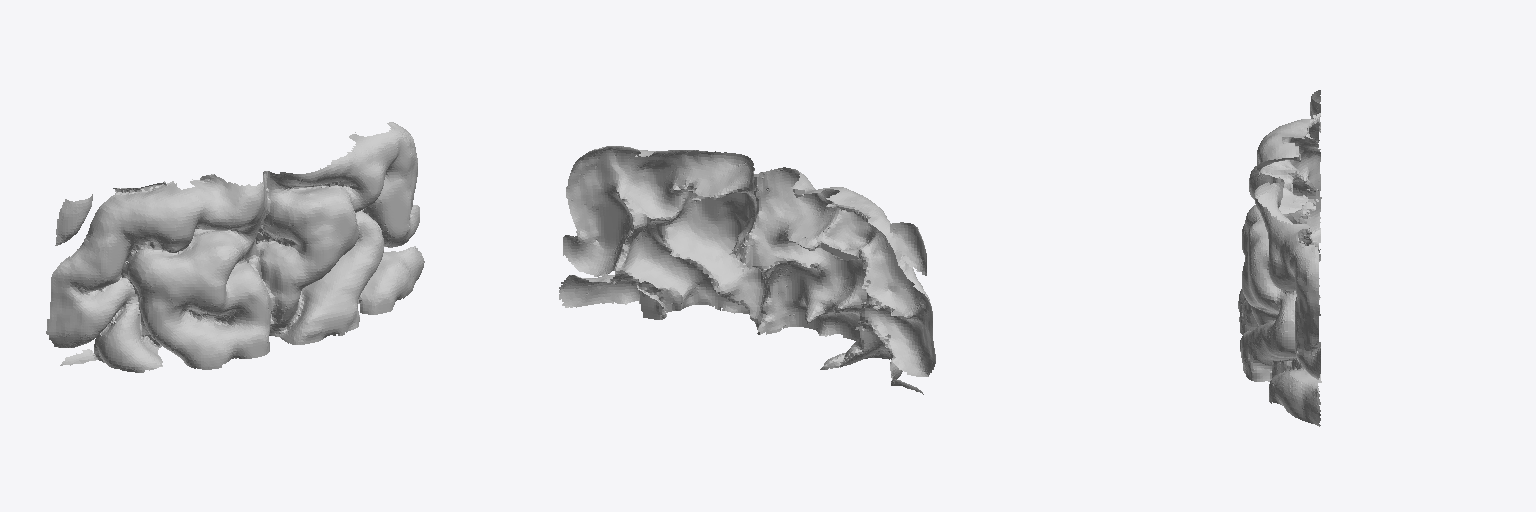
File: cortex_0_2.obj
3 views of the same model, side by side, from view 1: azimuth 30°, elevation 25°; view 2: azimuth 150°, elevation 25°; view 3: azimuth 270°, elevation 25° (orthographic).
Visible parts, largest first — view 1: Cortex_0_2_Mehrdad_SagT1_Cortex_v1_No_Smooth_OBJ.000_Mehrdad_Sa; view 2: Cortex_0_2_Mehrdad_SagT1_Cortex_v1_No_Smooth_OBJ.000_Mehrdad_Sa; view 3: Cortex_0_2_Mehrdad_SagT1_Cortex_v1_No_Smooth_OBJ.000_Mehrdad_Sa.
Boxes of the visible parts, <box> form: Cortex_0_2_Mehrdad_SagT1_Cortex_v1_No_Smooth_OBJ.000_Mehrdad_Sa: <box>46,122,424,372</box>; Cortex_0_2_Mehrdad_SagT1_Cortex_v1_No_Smooth_OBJ.000_Mehrdad_Sa: <box>559,146,935,394</box>; Cortex_0_2_Mehrdad_SagT1_Cortex_v1_No_Smooth_OBJ.000_Mehrdad_Sa: <box>1238,90,1321,426</box>.
Size of the model in its own units: 93.59 by 39.55 by 17.84.